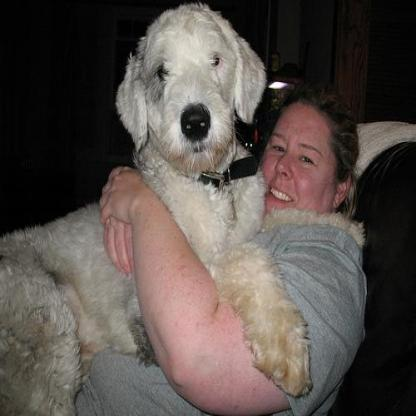Old_English_sheepdog: (1, 2, 364, 414)
